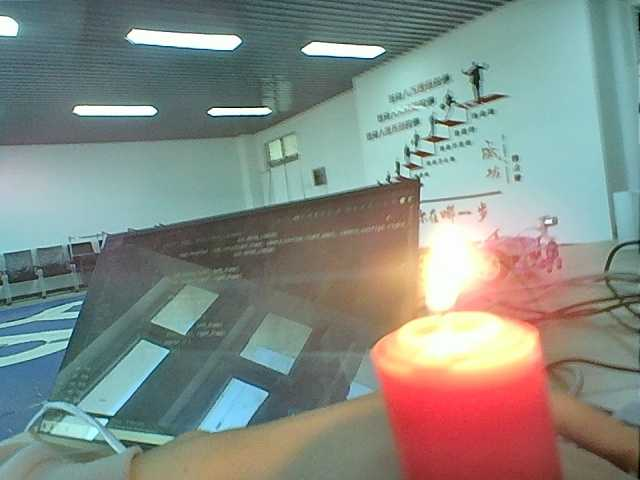candle: (372, 313, 588, 480)
fire: (416, 221, 485, 317)
